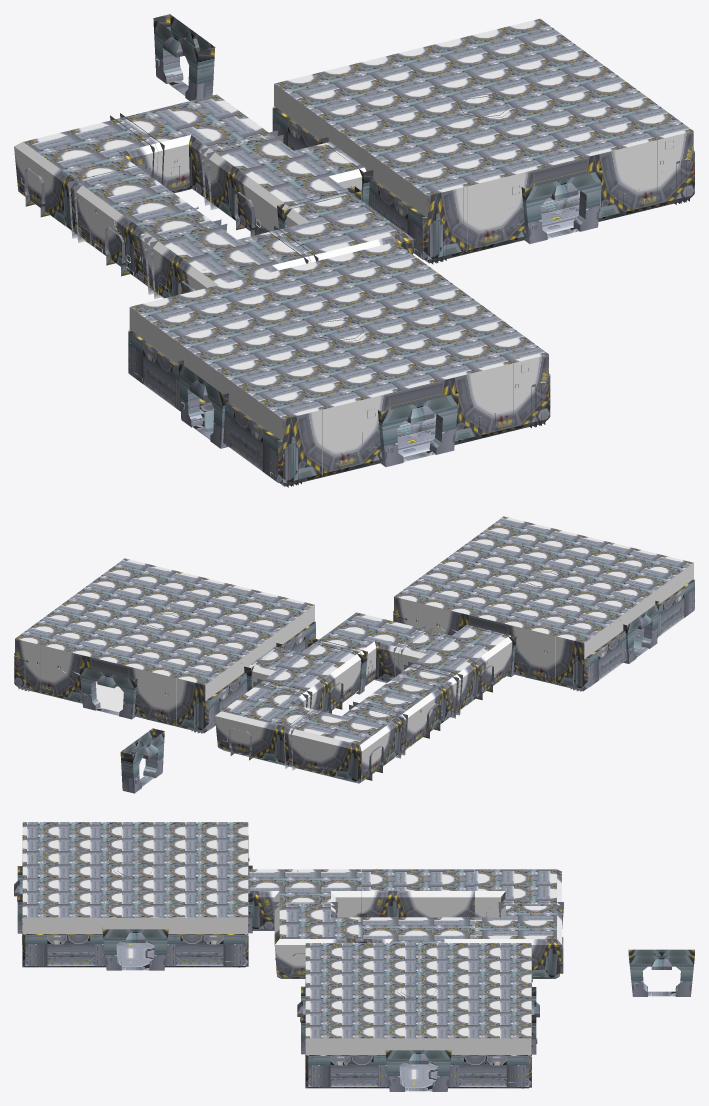
The model's file is Combined_Mesh_root_scene__13_e7023e4f__ZombiesII_laboratory_07_d_a6872bb1_c1f257.obj.
3 views of the same model, one above another, from view 1: azimuth 30°, elevation 25°; view 2: azimuth 150°, elevation 25°; view 3: azimuth 270°, elevation 25° (orthographic). The views are drawn at different scales.
Size of the model in its own units: 93.74 by 10.34 by 121.
Materials: 592 (592 with a texture image).
